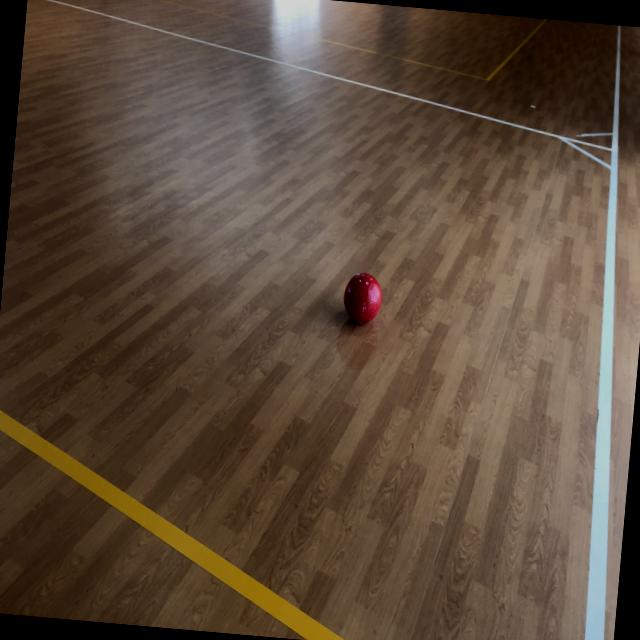red_ball: (340, 271, 384, 324)
